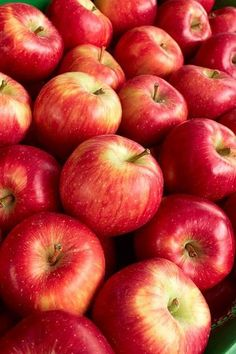Apple: (98, 256, 213, 354), (61, 129, 164, 237), (2, 219, 110, 316), (147, 189, 236, 289), (161, 115, 236, 200), (35, 68, 120, 142), (1, 1, 71, 76), (119, 72, 185, 141), (1, 146, 60, 221), (171, 59, 236, 122), (119, 24, 183, 79), (52, 1, 116, 48), (63, 41, 122, 86), (1, 69, 35, 144)
